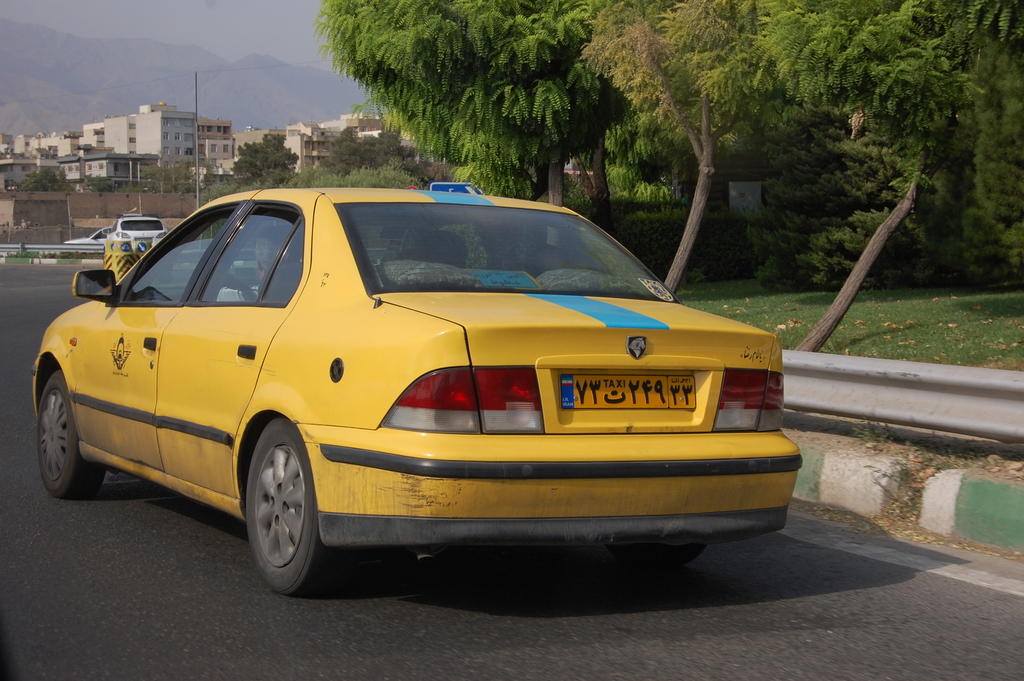license plate: (561, 370, 694, 409)
